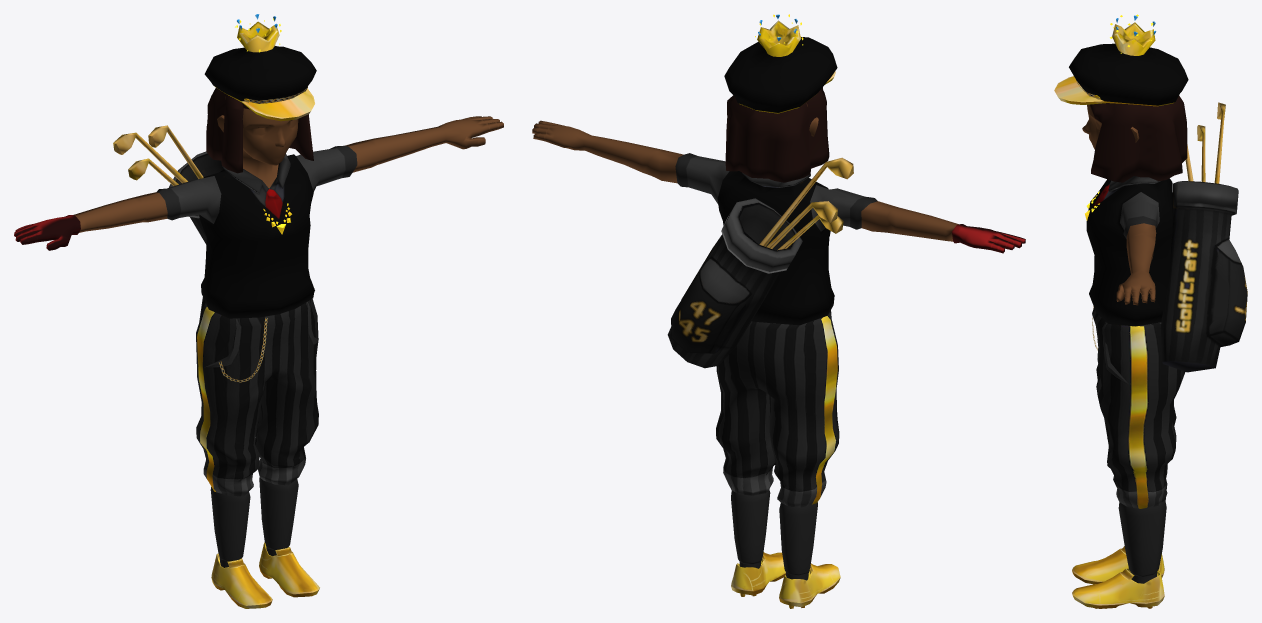
File: TestNPCs_03.glb
3 views of the same model, side by side, from view 1: azimuth 30°, elevation 25°; view 2: azimuth 150°, elevation 25°; view 3: azimuth 270°, elevation 25° (orthographic).
Visible parts, largest first — view 1: F_golfcraft_vest.001, F_golfcraft_pants.001, F_golfcraft_cap.001, F_golfcraft_shoes.001, F_Hair_ShoulderBobHair.001, F_Head_BaseMesh.002; view 2: F_golfcraft_vest.001, F_golfcraft_pants.001, F_Hair_ShoulderBobHair.001, F_golfcraft_cap.001, F_golfcraft_shoes.001; view 3: F_golfcraft_vest.001, F_golfcraft_pants.001, F_golfcraft_cap.001, F_Hair_ShoulderBobHair.001, F_golfcraft_shoes.001, F_Head_BaseMesh.002.
Part boxes in pixels (x1=…): F_golfcraft_vest.001: x1=14, y1=116, x2=503, y2=318; F_golfcraft_pants.001: x1=196, y1=297, x2=318, y2=561; F_golfcraft_cap.001: x1=204, y1=14, x2=316, y2=121; F_golfcraft_shoes.001: x1=211, y1=542, x2=319, y2=608; F_Hair_ShoulderBobHair.001: x1=206, y1=88, x2=313, y2=173; F_Head_BaseMesh.002: x1=217, y1=96, x2=298, y2=188; F_golfcraft_vest.001: x1=532, y1=120, x2=1025, y2=368; F_golfcraft_pants.001: x1=716, y1=310, x2=839, y2=575; F_Hair_ShoulderBobHair.001: x1=725, y1=87, x2=829, y2=182; F_golfcraft_cap.001: x1=724, y1=14, x2=837, y2=113; F_golfcraft_shoes.001: x1=731, y1=552, x2=840, y2=608; F_golfcraft_vest.001: x1=1086, y1=102, x2=1247, y2=372; F_golfcraft_pants.001: x1=1092, y1=307, x2=1185, y2=577; F_golfcraft_cap.001: x1=1054, y1=15, x2=1188, y2=106; F_Hair_ShoulderBobHair.001: x1=1090, y1=95, x2=1187, y2=182; F_golfcraft_shoes.001: x1=1072, y1=546, x2=1164, y2=608; F_Head_BaseMesh.002: x1=1082, y1=104, x2=1139, y2=149.
Size of the model in its own units: 1.9 by 2.13 by 0.6559.
Materials: 10 (6 with a texture image).
